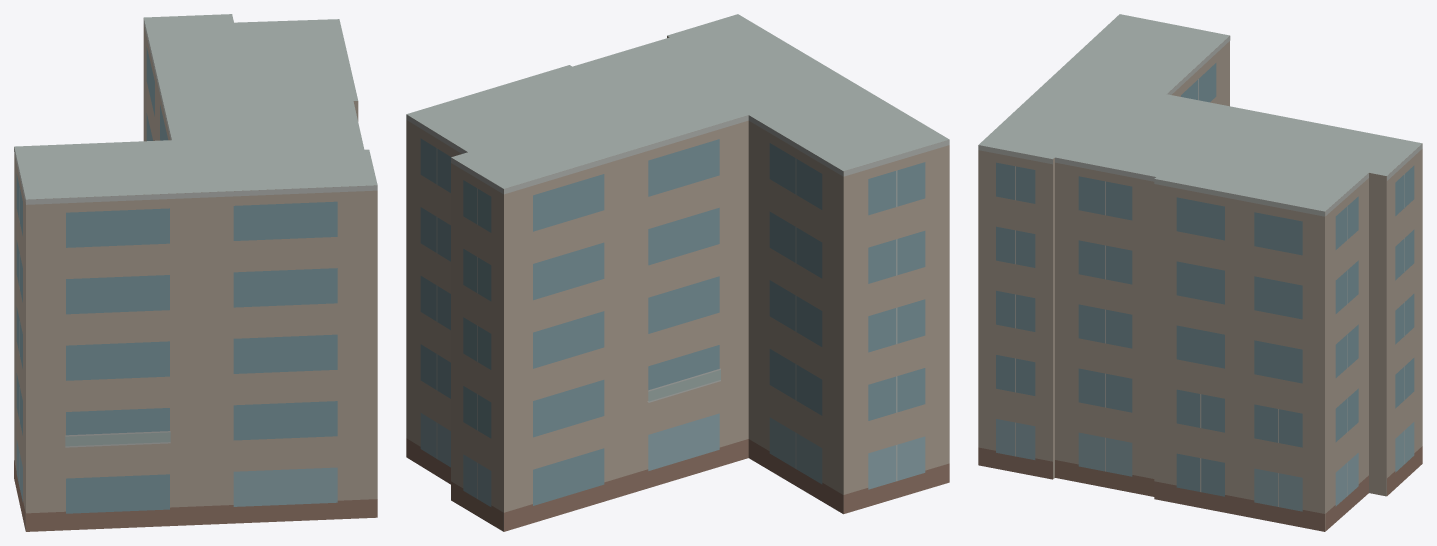
File: survey-upis-32868602.glb
3 views of the same model, side by side, from view 1: azimuth 30°, elevation 25°; view 2: azimuth 150°, elevation 25°; view 3: azimuth 270°, elevation 25° (orthographic). The views are drawn at different scales.
Parts seen in each view (by area): view 1: survey-upis-32868602.tmp; view 2: survey-upis-32868602.tmp; view 3: survey-upis-32868602.tmp.
Boxes of the visible parts, x1,y1,x2,y2 form: survey-upis-32868602.tmp: [14, 14, 377, 531]; survey-upis-32868602.tmp: [406, 14, 949, 531]; survey-upis-32868602.tmp: [978, 14, 1422, 531].
Size of the model in its own units: 20.18 by 15.25 by 19.18.
